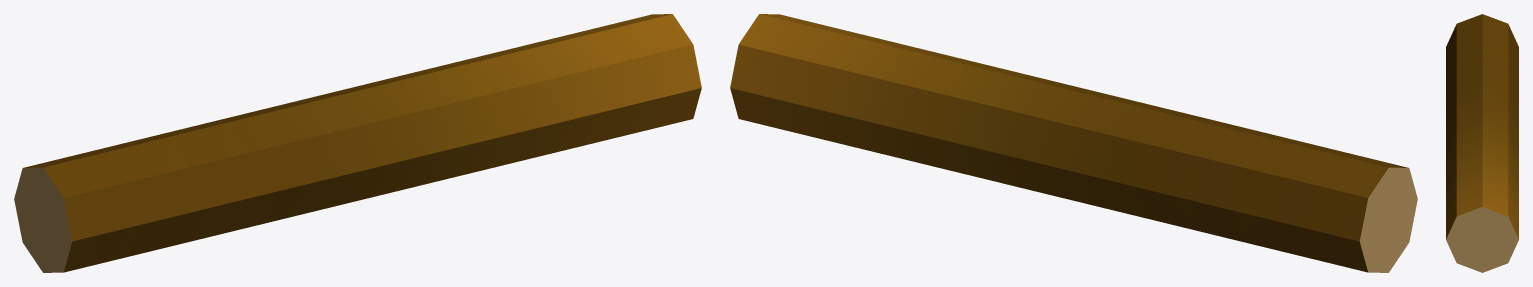
The model's file is FloatingIsland_Dif9_Sc2.fbx.
3 views of the same model, side by side, from view 1: azimuth 30°, elevation 25°; view 2: azimuth 150°, elevation 25°; view 3: azimuth 270°, elevation 25° (orthographic). The views are drawn at different scales.
Visible parts, largest first — view 1: FloatingIsland_Dif9_Sc2; view 2: FloatingIsland_Dif9_Sc2; view 3: FloatingIsland_Dif9_Sc2.
Part boxes in pixels (box(x1,y1,x2,y2)): FloatingIsland_Dif9_Sc2: box(14, 14, 701, 272); FloatingIsland_Dif9_Sc2: box(730, 14, 1417, 272); FloatingIsland_Dif9_Sc2: box(1446, 14, 1518, 272).
Size of the model in its own units: 1.02 by 0.1636 by 0.1636.
